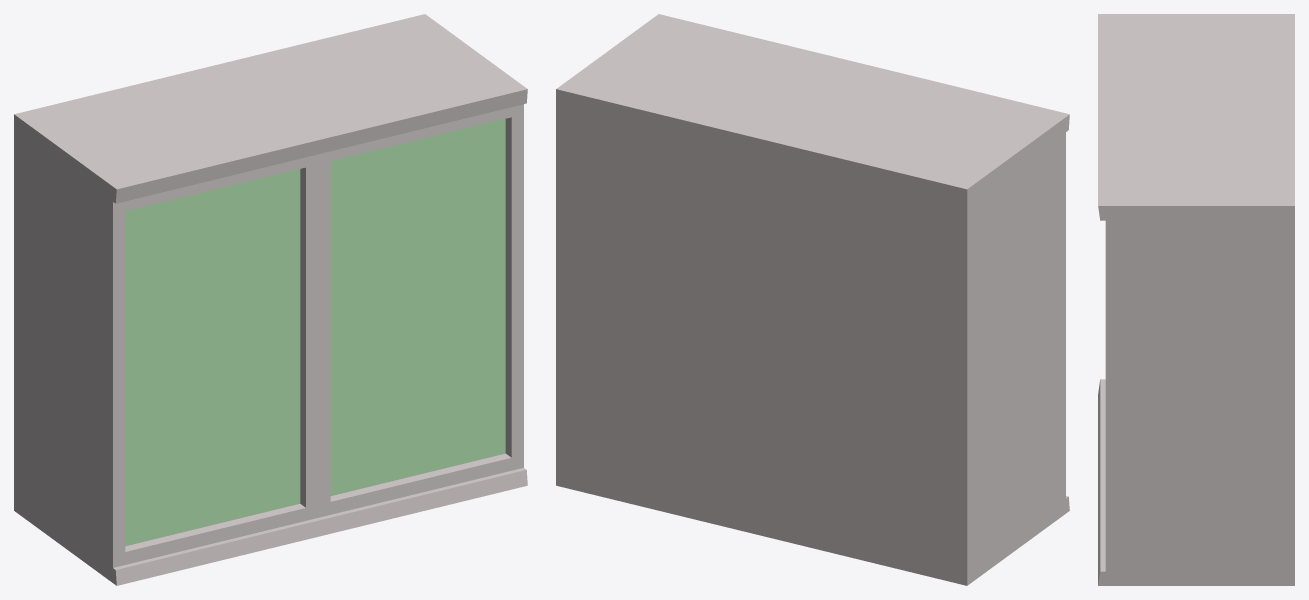
The model's file is CUPBOARD_2.fbx.
The picture shows the model from 3 angles, left to right: view 1: azimuth 30°, elevation 25°; view 2: azimuth 150°, elevation 25°; view 3: azimuth 270°, elevation 25°; orthographic projection. The views are drawn at different scales.
Parts seen in each view (by area): view 1: Plane.007; view 2: Plane.007; view 3: Plane.007.
Boxes of the visible parts, x1,y1,x2,y2 form: Plane.007: (14,14,527,585); Plane.007: (556,14,1069,585); Plane.007: (1098,14,1294,585).
Size of the model in its own units: 4.54 by 4.18 by 1.96.
